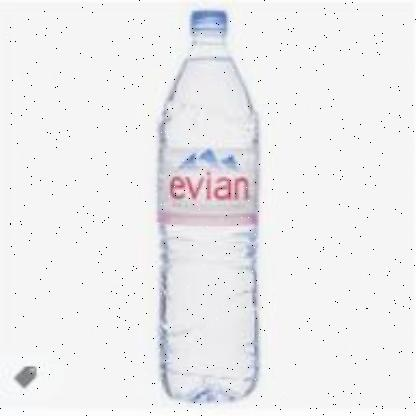Plastic Bottle: (160, 11, 261, 402)
